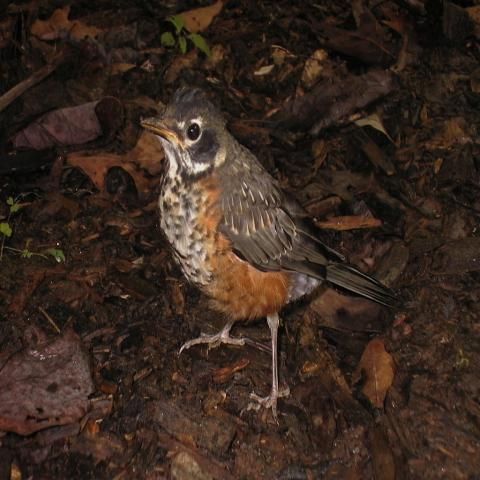bird: (137, 83, 406, 426)
